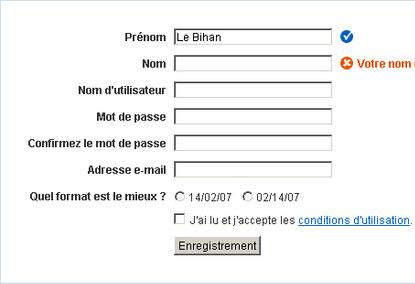button: (172, 235, 264, 257)
checkbox: (173, 212, 188, 228)
checkbox_with_label: (170, 210, 412, 230)
field: (173, 27, 333, 47), (171, 81, 334, 100), (171, 134, 334, 153), (172, 53, 334, 72), (172, 107, 333, 126), (171, 160, 334, 178)
field_with_label: (27, 133, 335, 154), (79, 79, 337, 102), (96, 105, 336, 128), (87, 158, 336, 180), (126, 24, 335, 48), (142, 51, 335, 74)
radio: (174, 190, 186, 204), (241, 190, 253, 204)
radio_with_label: (171, 188, 233, 205), (238, 189, 301, 205)
